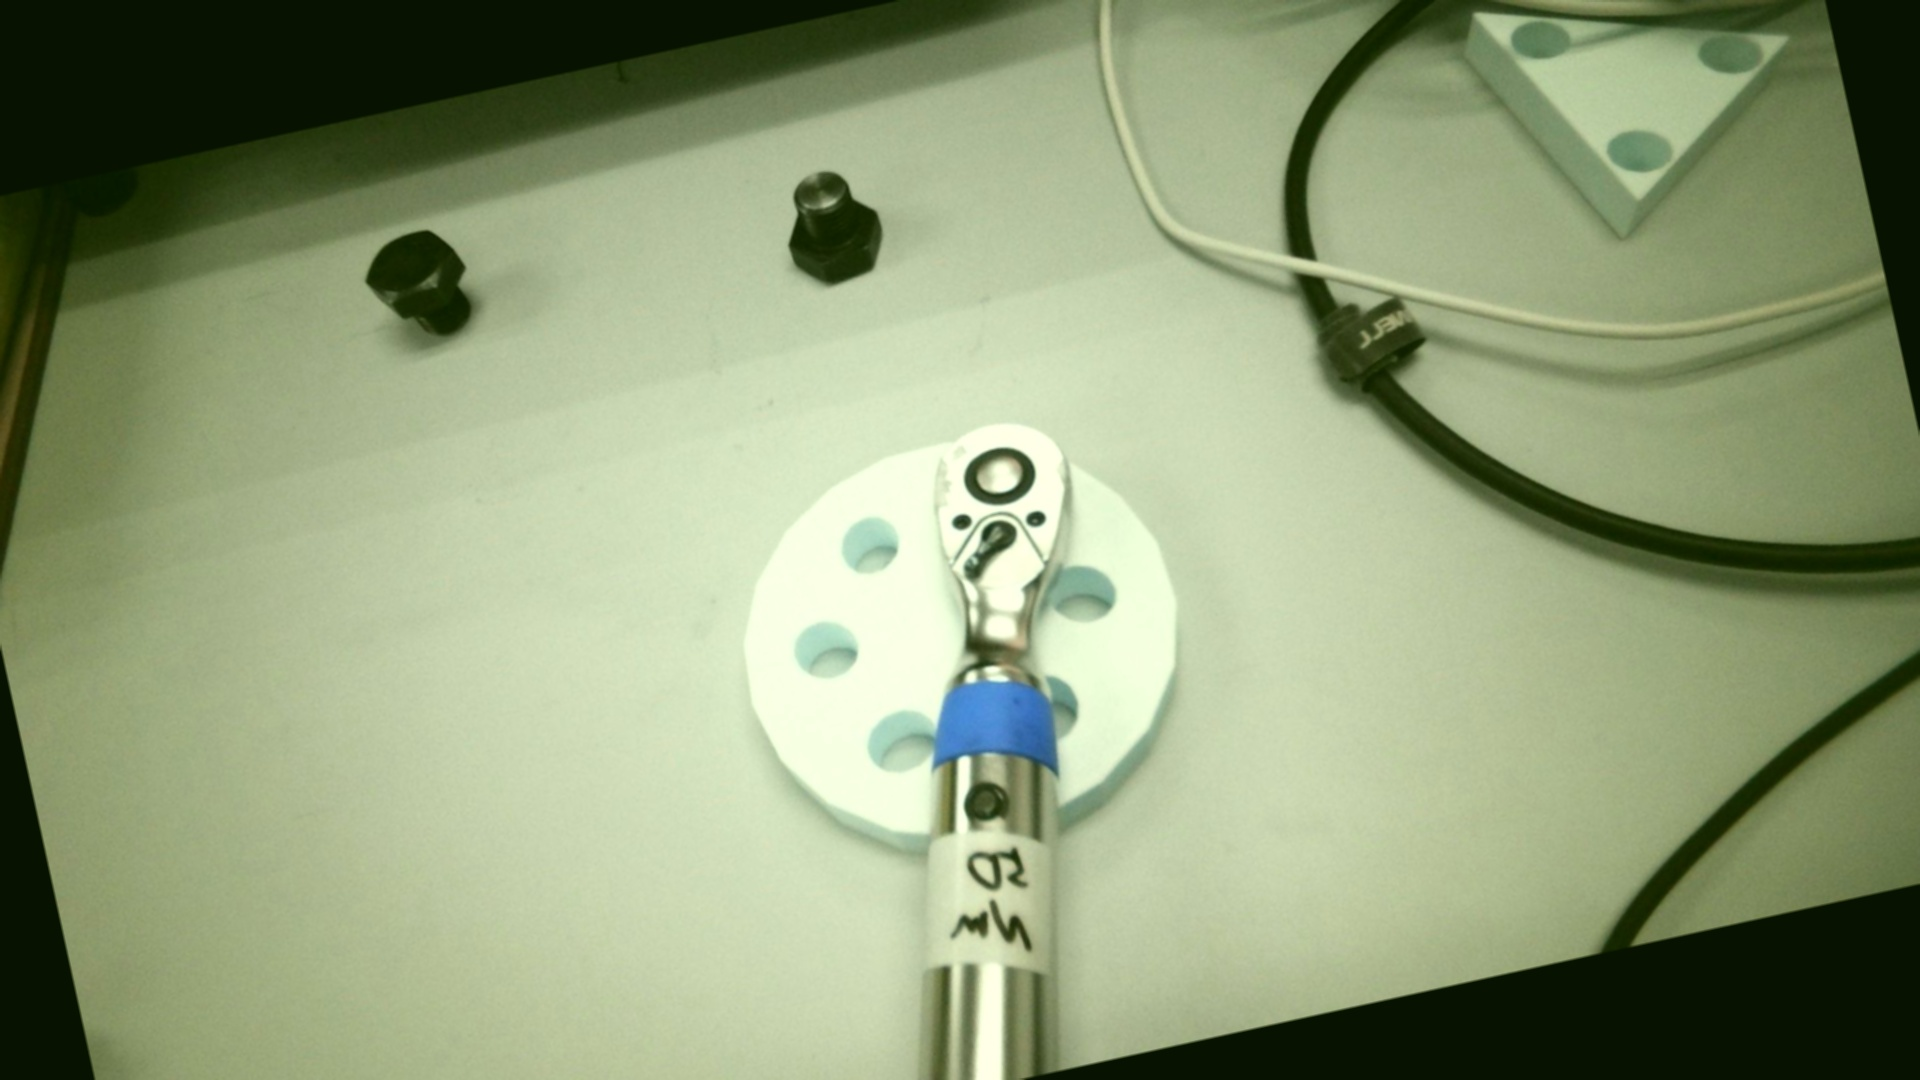hole: (860, 705, 943, 779), (1042, 556, 1120, 630), (832, 512, 906, 583), (789, 615, 862, 684), (1036, 669, 1085, 740)
obj: (705, 400, 1217, 891)
wrench: (959, 440, 1042, 514)
